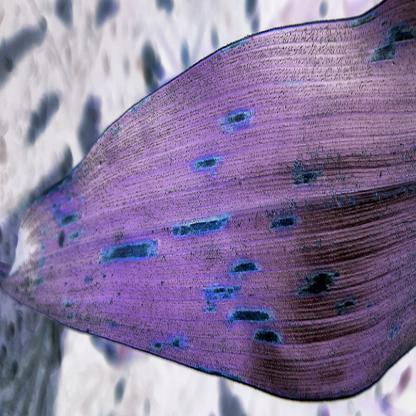corn leaf blight: (11, 52, 416, 393)
